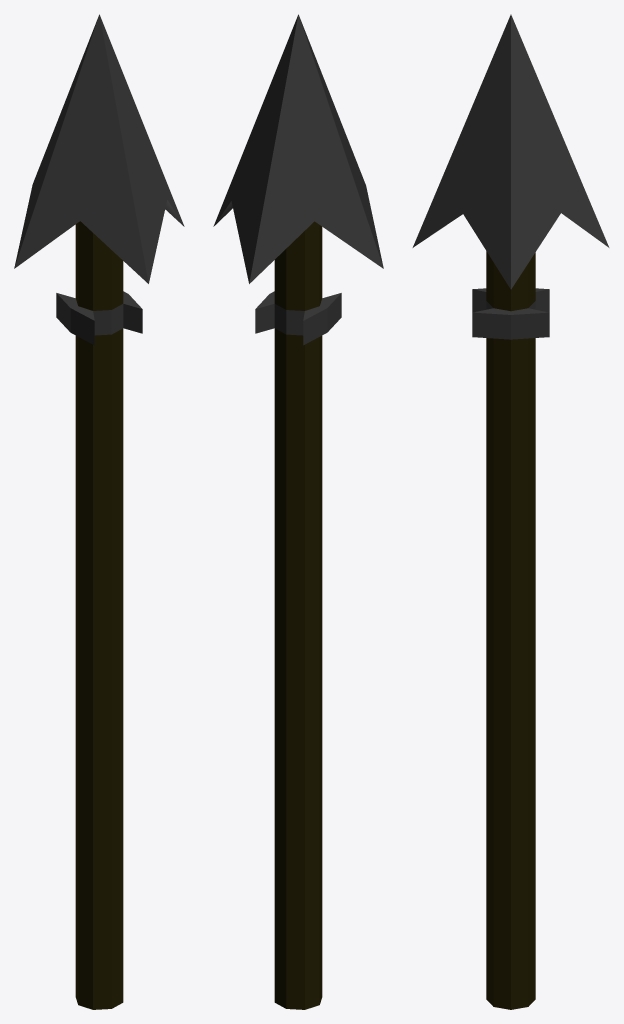
File: Lanza.fbx
3 views of the same model, side by side, from view 1: azimuth 30°, elevation 25°; view 2: azimuth 150°, elevation 25°; view 3: azimuth 270°, elevation 25° (orthographic).
Visible parts, largest first — view 1: pCylinder1, pCone1; view 2: pCylinder1, pCone1; view 3: pCylinder1, pCone1.
Boxes of the visible parts, box(x1,y1,x2,y2) form: pCylinder1: box(56, 221, 142, 1009); pCone1: box(14, 14, 184, 283); pCylinder1: box(255, 221, 341, 1009); pCone1: box(213, 14, 383, 283); pCylinder1: box(472, 251, 549, 1009); pCone1: box(412, 14, 609, 289).
Bounding box in the file's own units: 1.84 × 10.13 × 1.84.
